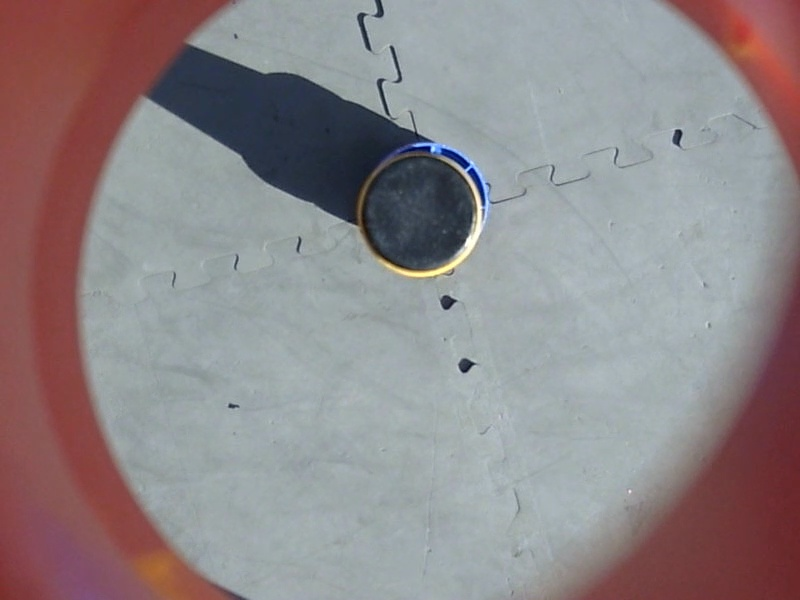tip: (352, 140, 490, 286)
